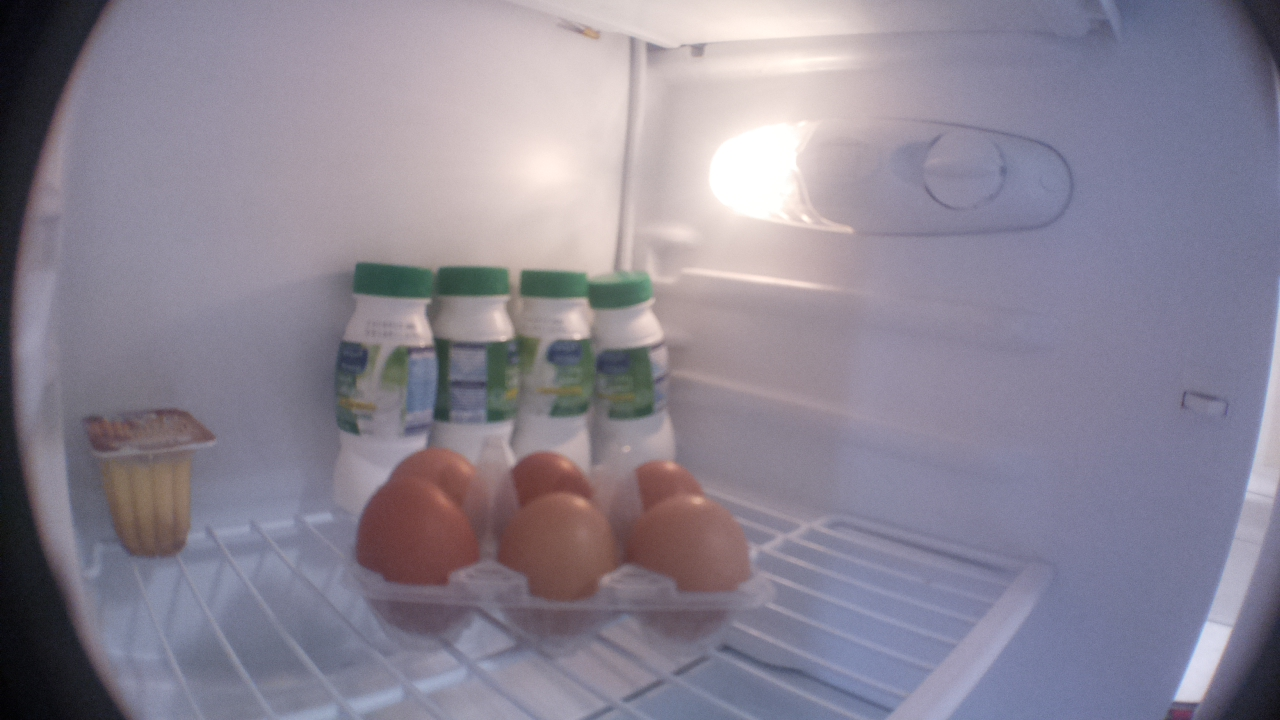caramel: (79, 403, 228, 566)
egg: (350, 473, 479, 636), (628, 491, 756, 652), (491, 489, 618, 641), (499, 449, 604, 492), (622, 460, 714, 498), (384, 447, 480, 474)
laban: (329, 257, 440, 512), (509, 270, 598, 451), (431, 264, 521, 440), (596, 265, 675, 455)
